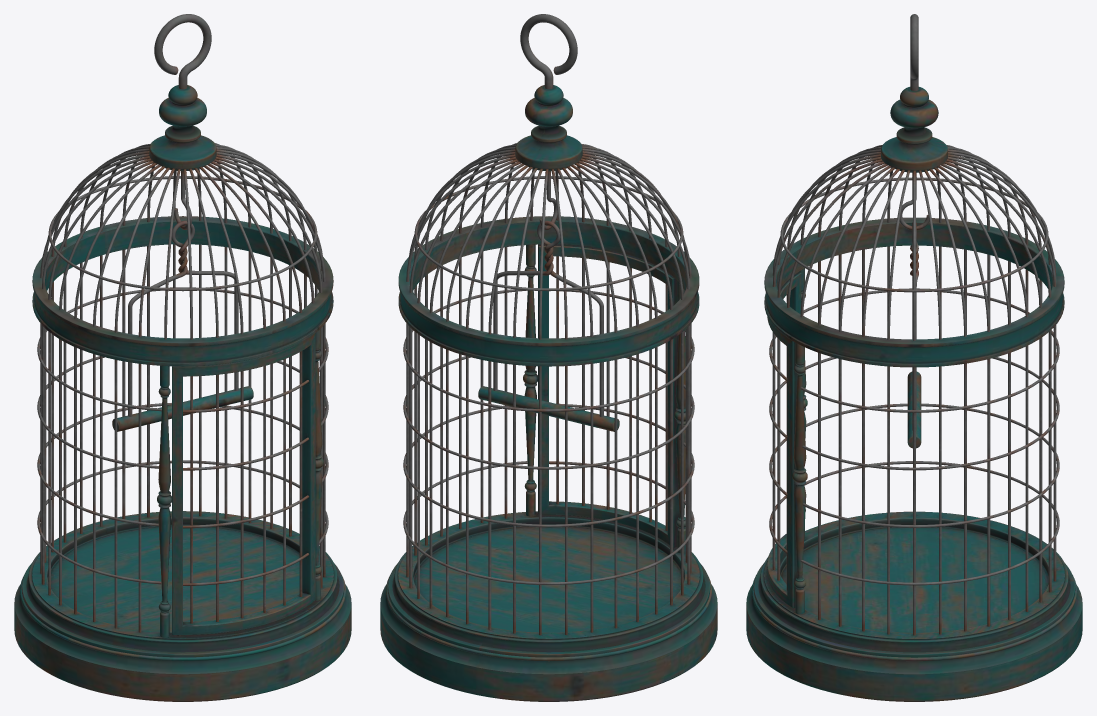
The model's file is obj_birdcages_c41292.glb.
The picture shows the model from 3 angles, left to right: view 1: azimuth 30°, elevation 25°; view 2: azimuth 150°, elevation 25°; view 3: azimuth 270°, elevation 25°; orthographic projection.
Parts seen in each view (by area): view 1: obj_birdcages_c41292; view 2: obj_birdcages_c41292; view 3: obj_birdcages_c41292.
Part boxes in pixels (x1,y1,x2,y2): obj_birdcages_c41292: [14, 14, 351, 701]; obj_birdcages_c41292: [380, 14, 717, 701]; obj_birdcages_c41292: [746, 14, 1082, 701].
Size of the model in its own units: 0.2479 by 0.5 by 0.2479.
Materials: 1 (1 with a texture image).
